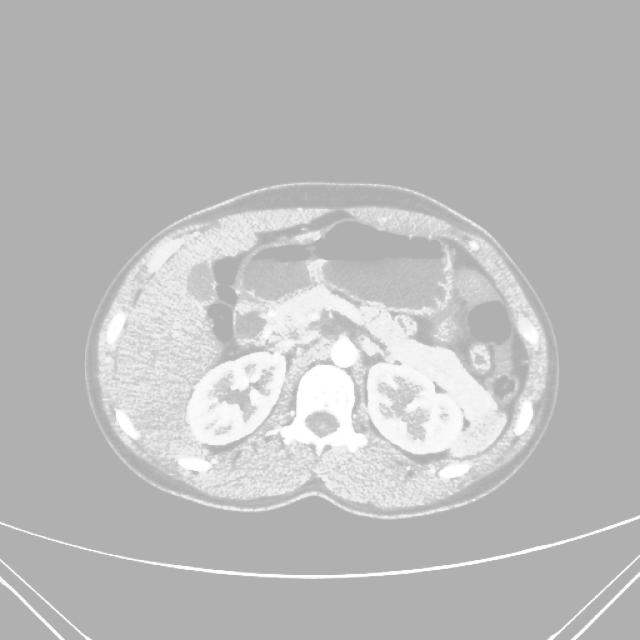NORMAL: (55, 157, 586, 555)
